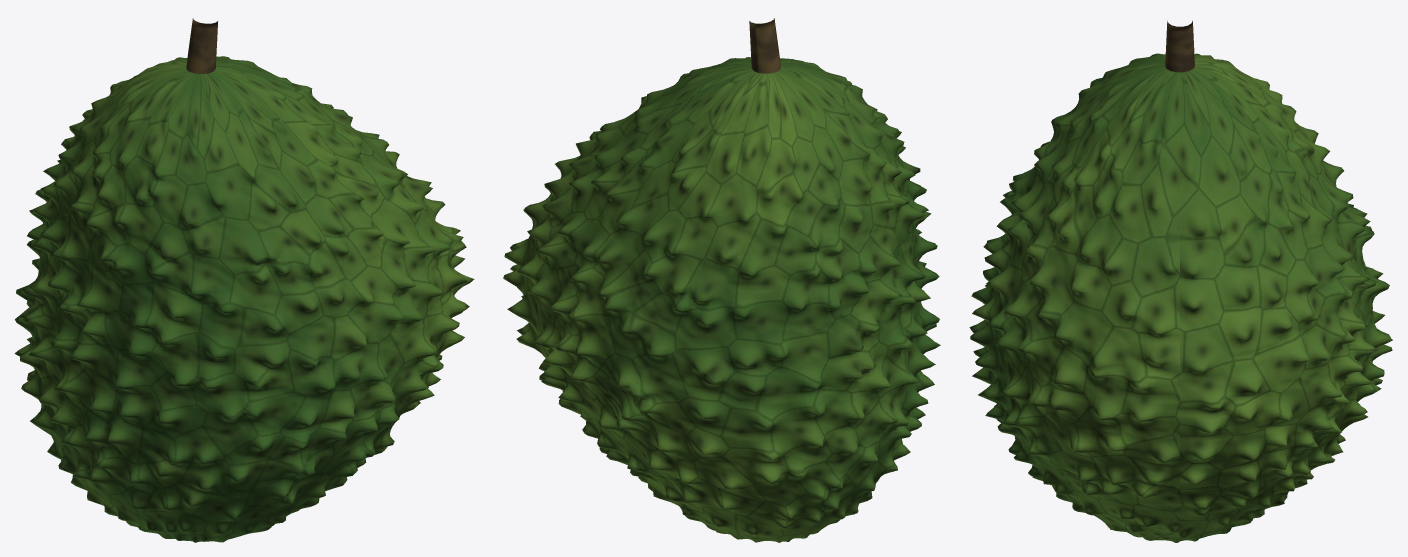
Rendered from corossol.glb.
3 views of the same model, side by side, from view 1: azimuth 30°, elevation 25°; view 2: azimuth 150°, elevation 25°; view 3: azimuth 270°, elevation 25° (orthographic).
Parts seen in each view (by area): view 1: entier_peau, moitie_A_peau, moitie_B_peau, entier_extra0; view 2: entier_peau, moitie_B_peau, moitie_A_peau, entier_extra0; view 3: entier_peau, moitie_B_peau, moitie_A_peau, entier_extra0.
Part boxes in pixels (<box>): entier_peau: <box>14,56,474,542</box>; moitie_A_peau: <box>55,64,466,542</box>; moitie_B_peau: <box>16,56,425,516</box>; entier_extra0: <box>186,18,217,73</box>; entier_peau: <box>503,57,940,542</box>; moitie_B_peau: <box>503,63,913,542</box>; moitie_A_peau: <box>589,57,940,502</box>; entier_extra0: <box>749,18,780,73</box>; entier_peau: <box>969,53,1392,542</box>; moitie_B_peau: <box>1180,54,1392,541</box>; moitie_A_peau: <box>976,54,1179,542</box>; entier_extra0: <box>1165,20,1194,72</box>.
Bounding box in the file's own units: 0.1781 × 0.2204 × 0.1658.
3 materials, 3 textured.
